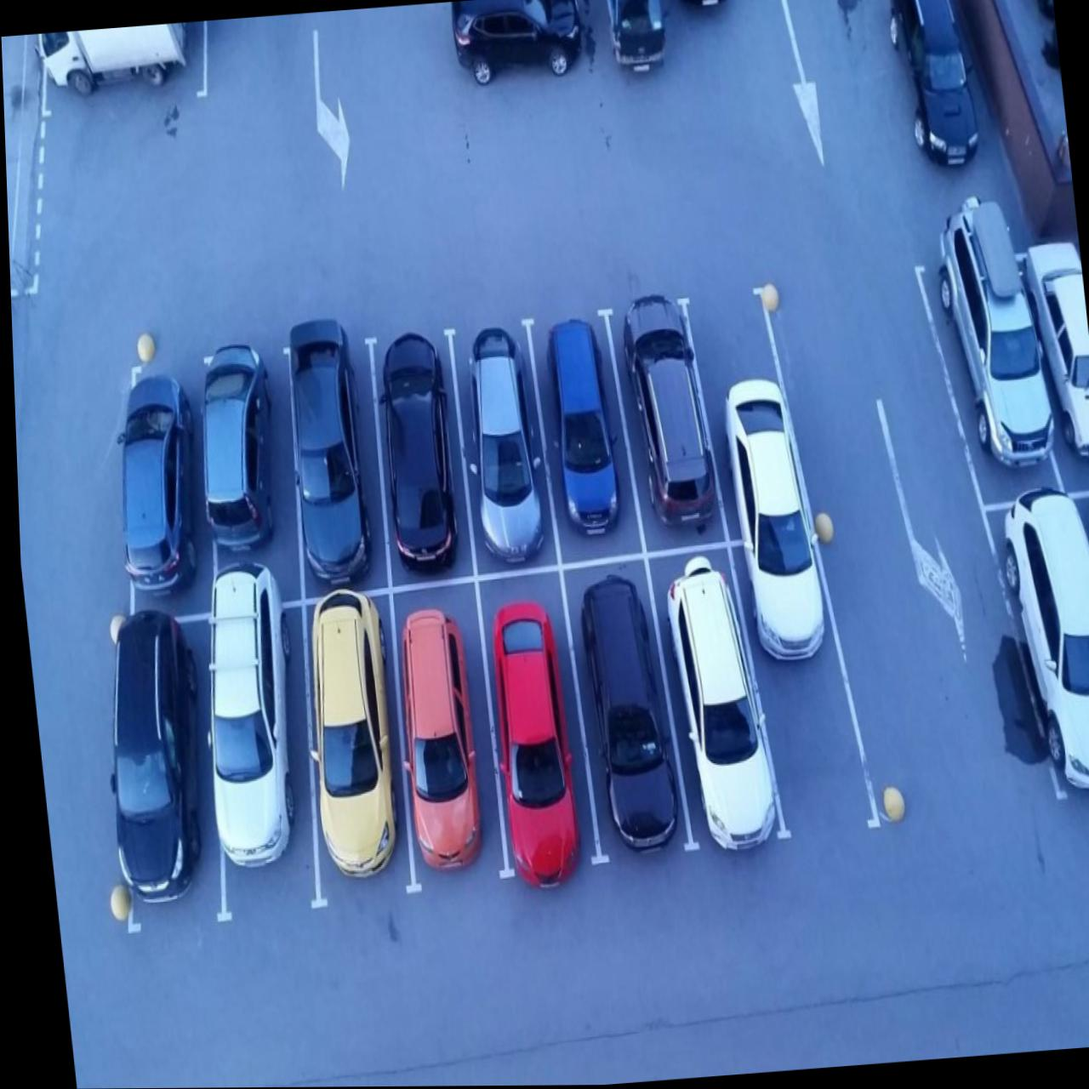cars: (733, 534, 872, 820), (290, 592, 414, 902), (385, 581, 508, 888), (105, 632, 230, 924), (650, 542, 768, 848), (922, 243, 1063, 496), (205, 608, 322, 911), (480, 561, 589, 863), (604, 298, 732, 547), (104, 349, 218, 626), (687, 288, 814, 529), (564, 566, 669, 845), (529, 309, 646, 556), (281, 334, 394, 588), (368, 325, 477, 587), (993, 505, 1089, 794), (203, 342, 307, 604), (448, 330, 555, 556), (1014, 225, 1089, 477), (46, 24, 204, 109)
